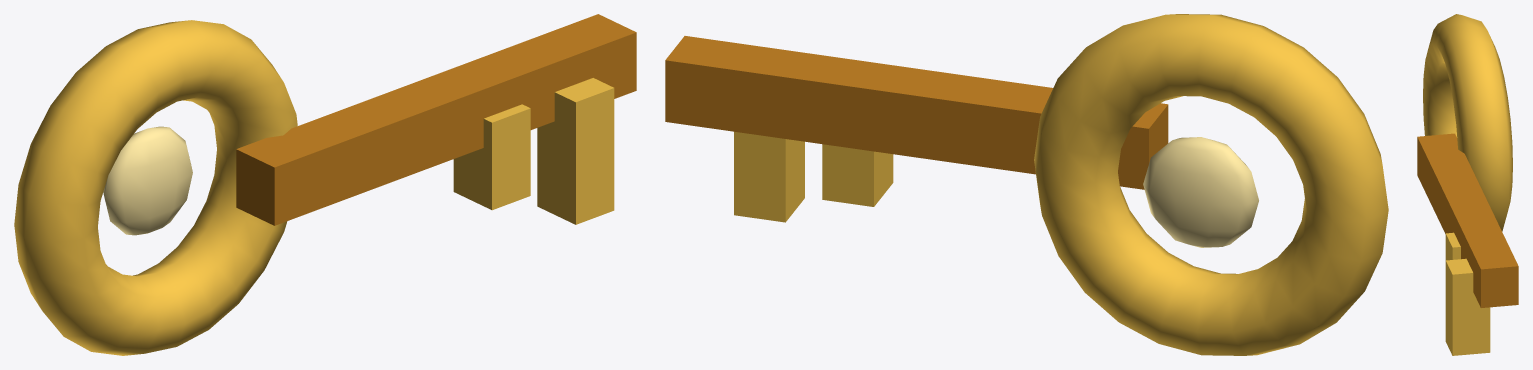
File: Key3D.glb
3 renders of one model, left to right at view 1: azimuth 30°, elevation 25°; view 2: azimuth 150°, elevation 25°; view 3: azimuth 270°, elevation 25°, orthographic. The views are drawn at different scales.
Parts seen in each view (by area): view 1: Body; view 2: Body; view 3: Body.
Boxes of the visible parts, <box> form: Body: <box>14,14,636,355</box>; Body: <box>665,14,1388,355</box>; Body: <box>1417,14,1518,355</box>.
Bounding box in the file's own units: 2.29 × 1.1 × 0.4744.
1 material, 1 textured.
